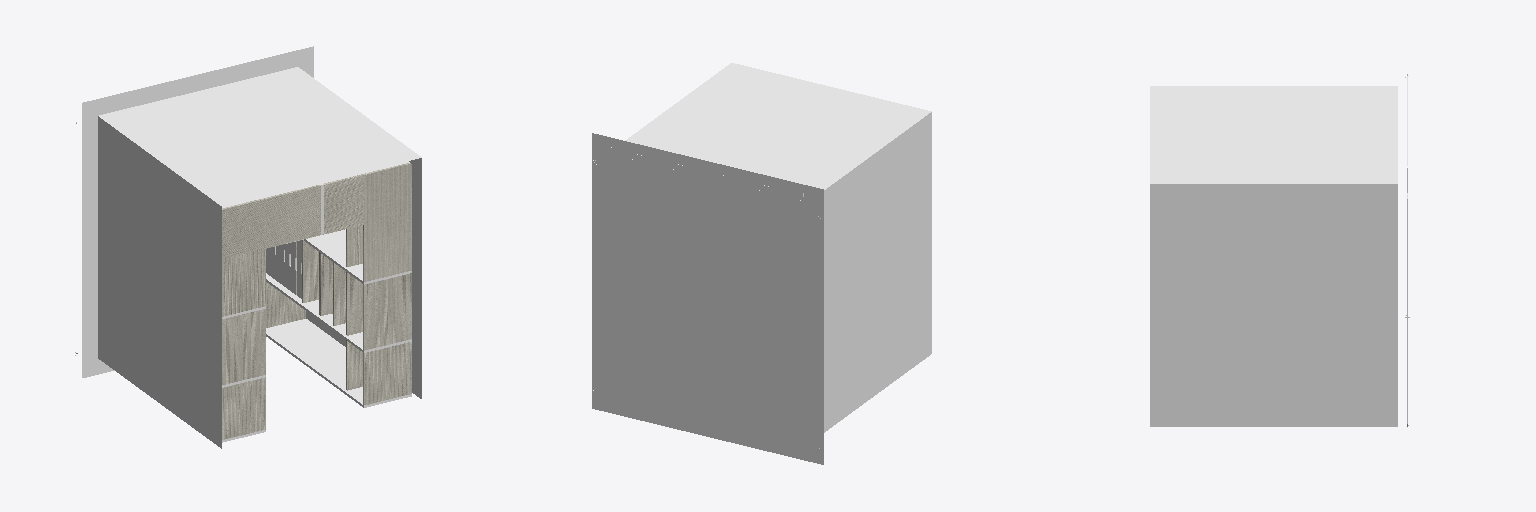
3 views of the same model, side by side, from view 1: azimuth 30°, elevation 25°; view 2: azimuth 150°, elevation 25°; view 3: azimuth 270°, elevation 25° (orthographic).
Visible parts, largest first — view 1: Object_375, Object_373, Object_187, Object_144, Object_382, Object_376, Object_360, Object_228, Object_23, Object_143, Object_347, Object_374 (+11 smaller); view 2: Object_372, Object_375, Object_373, Object_382, Object_378, Object_380, Object_376; view 3: Object_374, Object_373.
Boxes of the visible parts, box(x1,y1,x2,y2) form: Object_375: box(98, 116, 221, 448); Object_373: box(99, 67, 421, 205); Object_187: box(364, 163, 411, 281); Object_144: box(222, 185, 320, 258); Object_382: box(82, 104, 97, 377); Object_376: box(82, 46, 313, 115); Object_360: box(266, 319, 411, 407); Object_228: box(364, 273, 411, 350); Object_23: box(222, 309, 265, 384); Object_143: box(222, 249, 265, 316); Object_347: box(364, 342, 411, 404); Object_374: box(409, 158, 421, 398); Object_372: box(608, 154, 807, 444); Object_375: box(824, 112, 931, 432); Object_373: box(625, 63, 931, 200); Object_382: box(808, 190, 823, 464); Object_378: box(592, 134, 607, 407); Object_380: box(592, 396, 822, 464); Object_376: box(592, 133, 823, 201); Object_374: box(1150, 184, 1397, 426); Object_373: box(1150, 86, 1397, 183).
Bounding box in the file's own units: 2936 × 3300 × 2817.
13 materials, 1 textured.